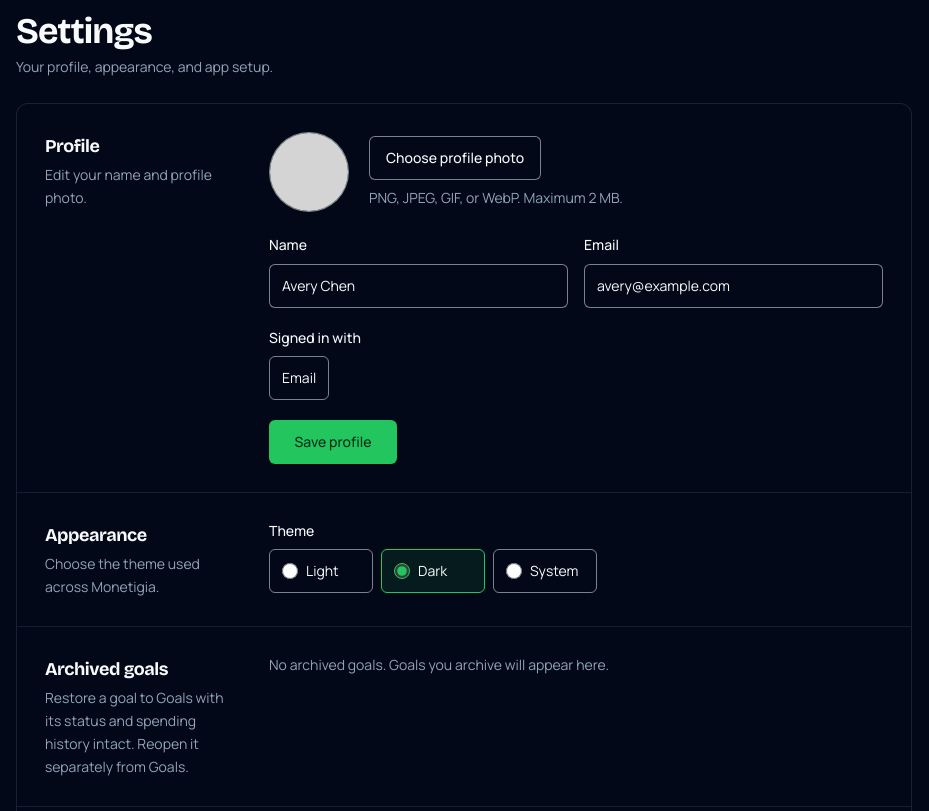
Test: settings page › keeps the typed name and shows an error when saving fails
Step 1. Replace the text in the field labelled "Name" with "Avery Rivera" → x=418, y=286, box [269,264,568,308]
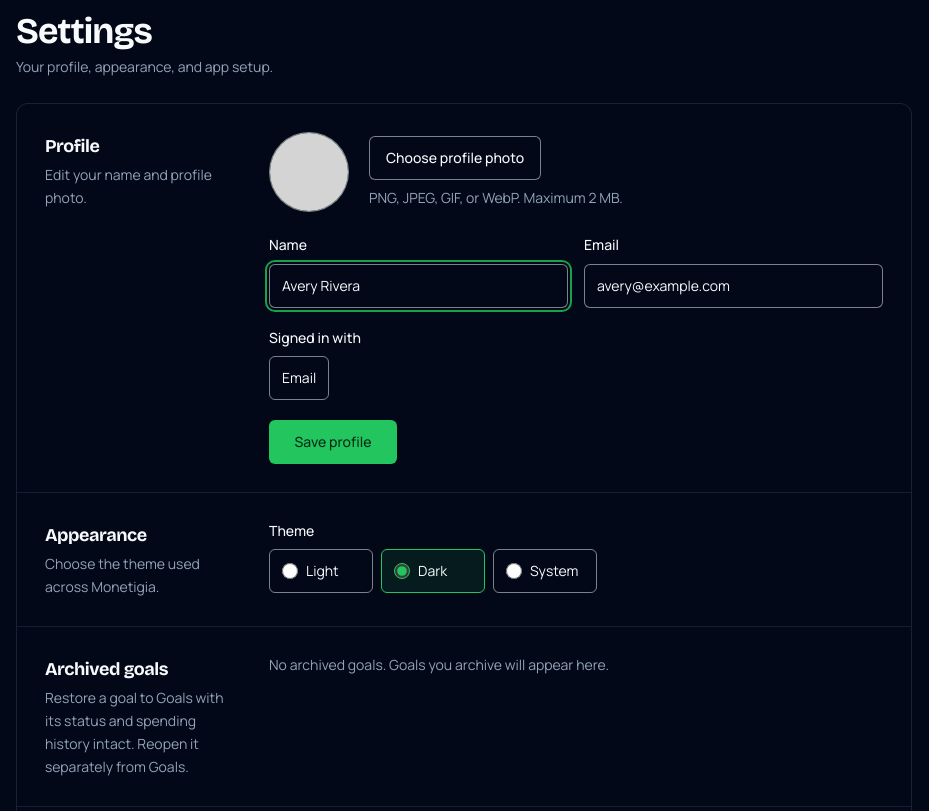
Step 2. Click the button "Save profile" → x=333, y=442, box [269,420,397,464]
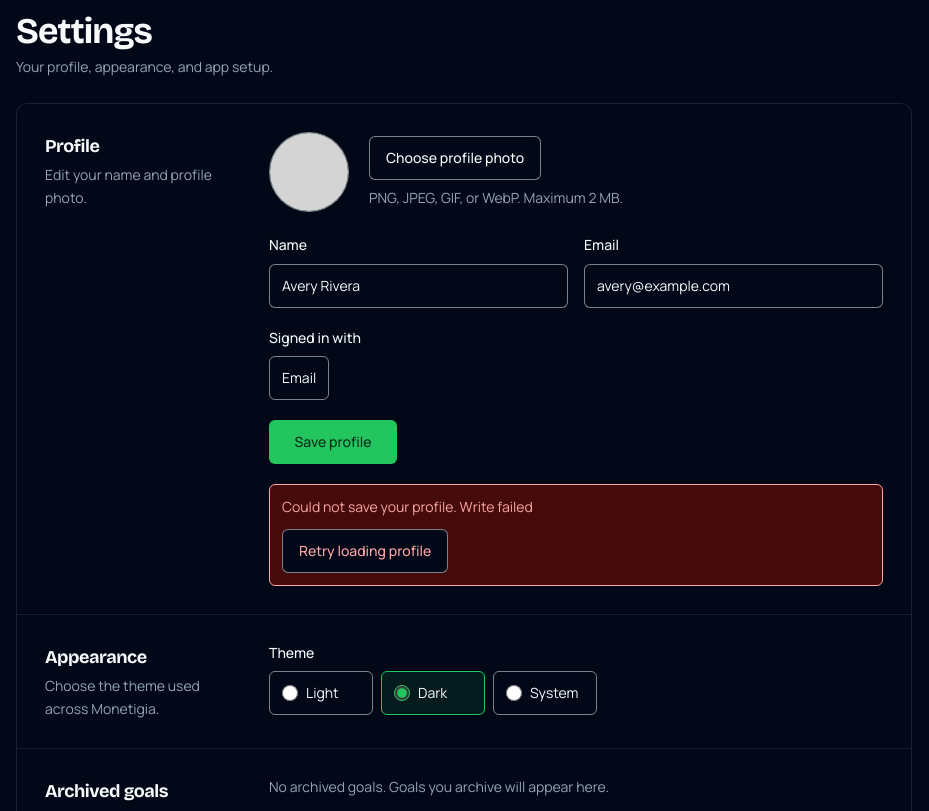
expect the message reads "Could not save your profile. Write failed Retry loading profile": met, box [282,497,533,516]
